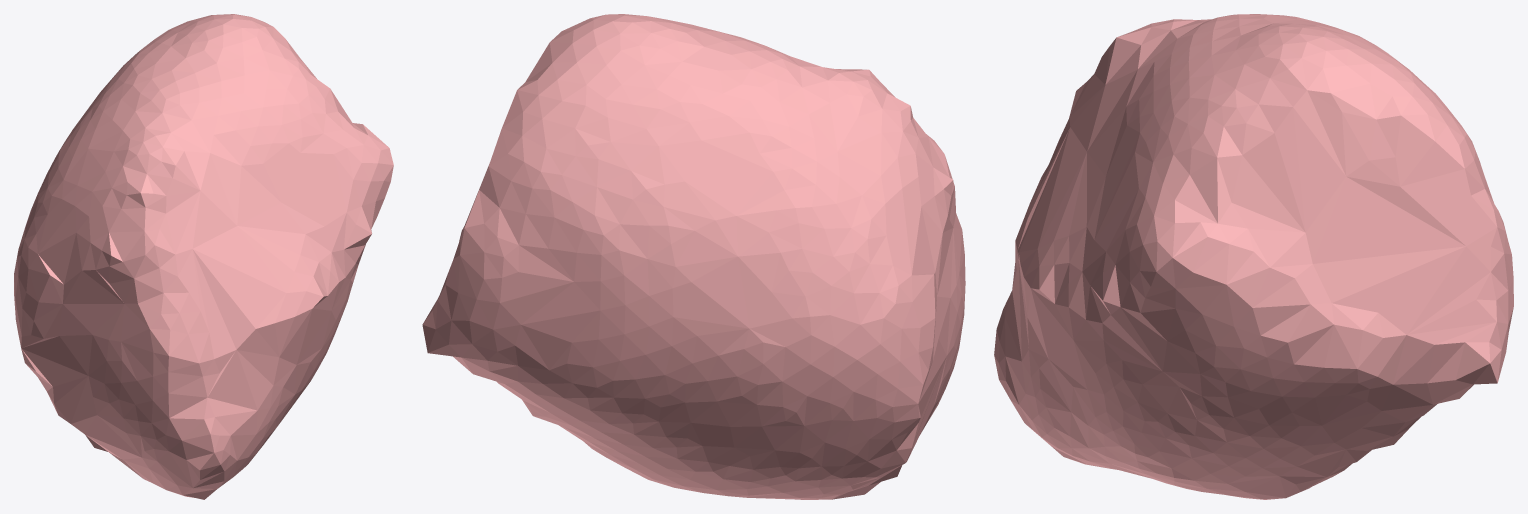
The model's file is Model_406_RH__Central_nucleus_of_the_inferior_colliculus_(CIC).obj.
The picture shows the model from 3 angles, left to right: view 1: azimuth 30°, elevation 25°; view 2: azimuth 150°, elevation 25°; view 3: azimuth 270°, elevation 25°; orthographic projection. The views are drawn at different scales.
Bounding box in the file's own units: 1.51 × 1.68 × 1.57.
